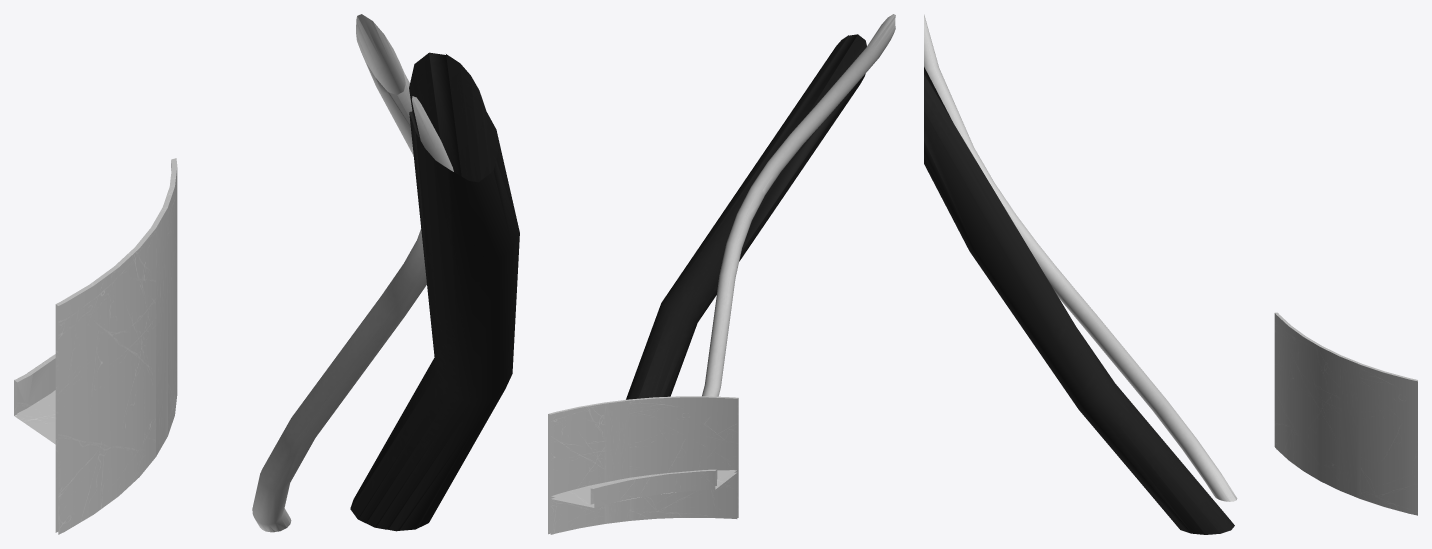
The model's file is TightenerStation_Cube12.glb.
3 renders of one model, left to right at view 1: azimuth 30°, elevation 25°; view 2: azimuth 150°, elevation 25°; view 3: azimuth 270°, elevation 25°, orthographic. The views are drawn at different scales.
Visible parts, largest first — view 1: color-2.014; view 2: color-2.014; view 3: color-2.014.
Boxes of the visible parts, bbox=[...] form: color-2.014: bbox=[14, 14, 519, 534]; color-2.014: bbox=[548, 14, 895, 534]; color-2.014: bbox=[924, 14, 1417, 534].
Size of the model in its own units: 0.1351 by 0.3098 by 0.32.
3 materials, 3 textured.
